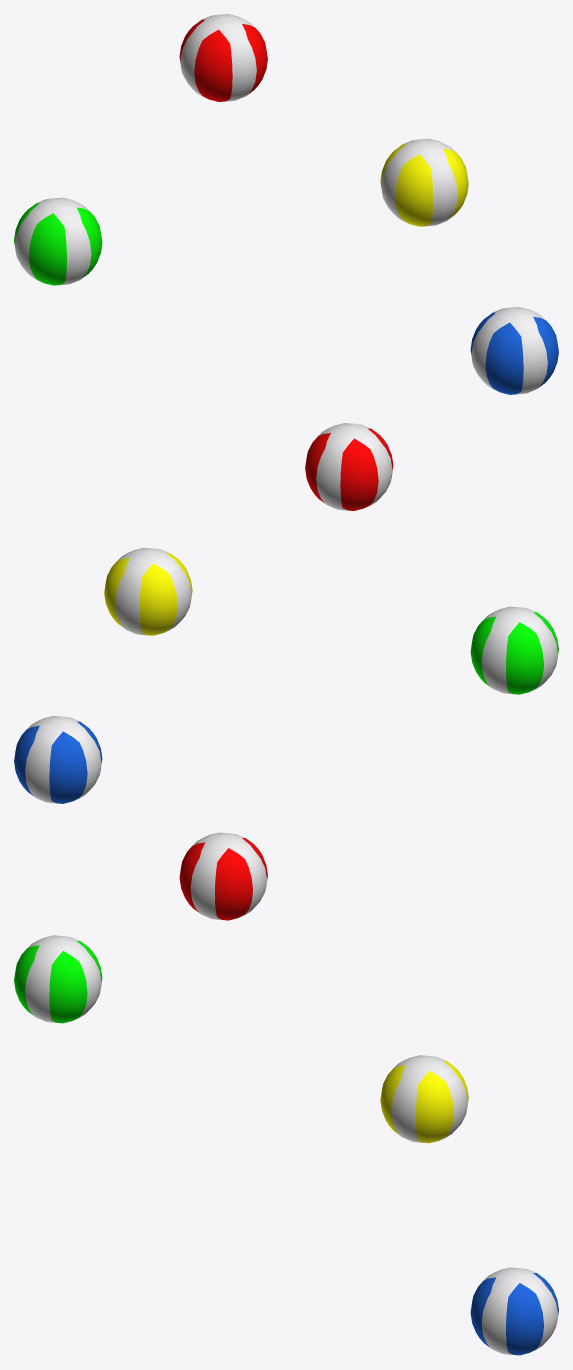
File: Ball darts.fbx
3 renders of one model, top to bottom at view 1: azimuth 30°, elevation 25°; view 2: azimuth 150°, elevation 25°; view 3: azimuth 330°, elevation 25°, orthographic.
Parts seen in each view (by area): view 1: Ball darts; view 2: Ball darts; view 3: Ball darts.
Part boxes in pixels (x1,y1,x2,y2): Ball darts: (14, 14, 558, 394); Ball darts: (14, 423, 558, 803); Ball darts: (14, 832, 558, 1355).
Size of the model in its own units: 20.84 by 16.59 by 3.
Materials: 1 (1 with a texture image).
